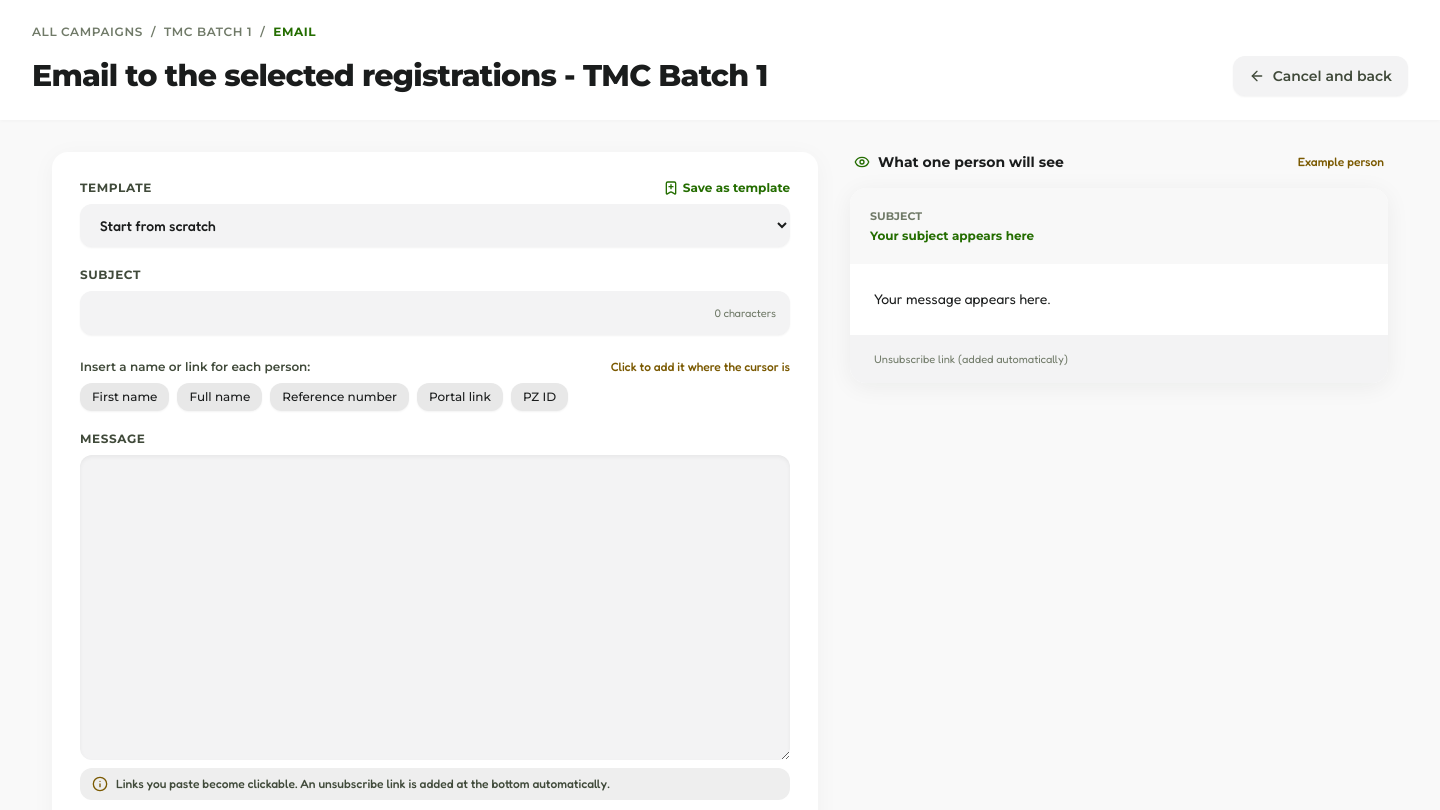
Test: sending › create gets expectedCount / expectedNotPaid from the preview and confirmNotPaid from the tick
Type "Hello" into the field labelled "Subject".
click(435, 313); type("Hello")  # box [80,291,790,335]
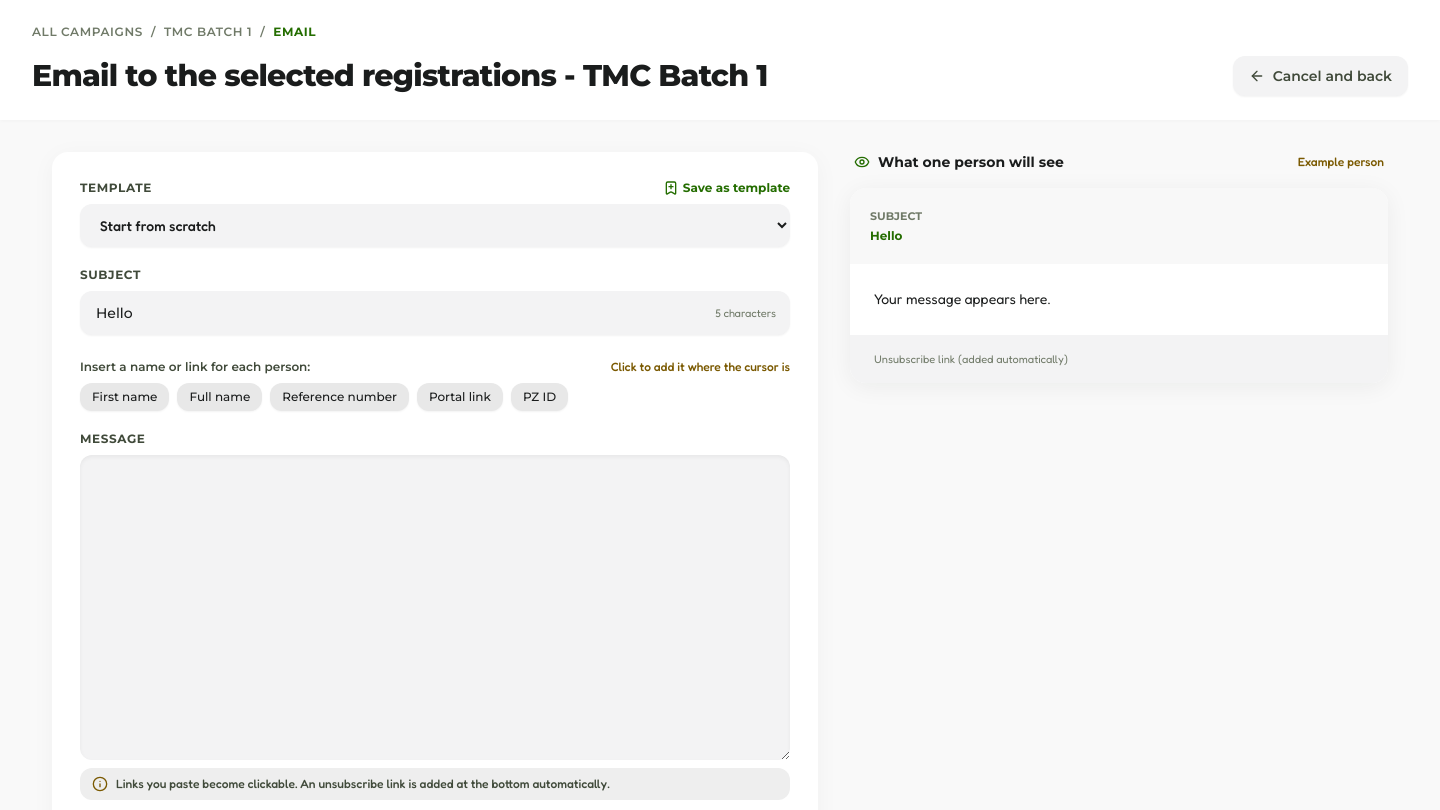
Type "Body text" into the text box labelled "Message".
click(435, 608); type("Body text")  # box [80,455,790,760]
(page scrolled)
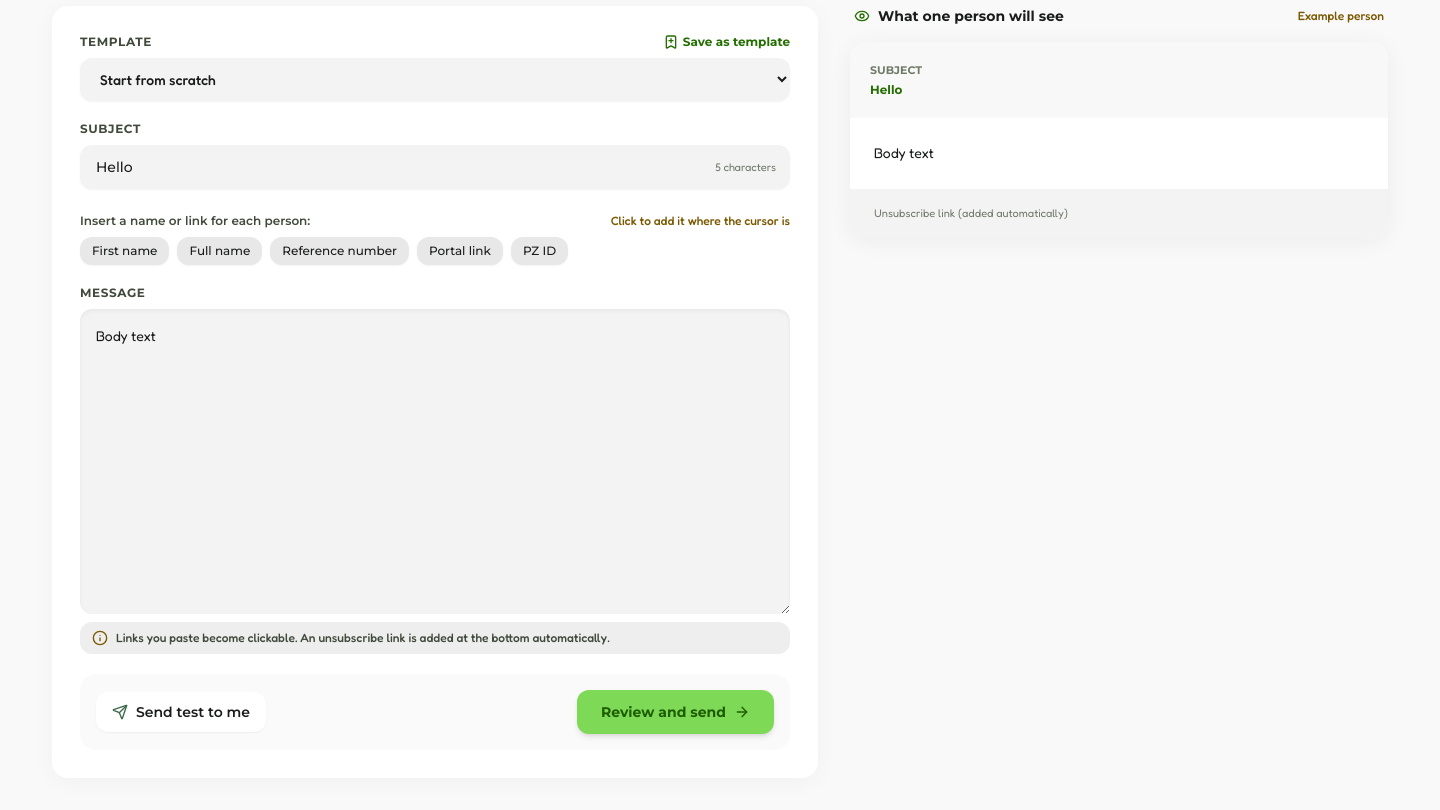
Click the button "Review and send".
click(675, 712)  # box [577,690,774,734]
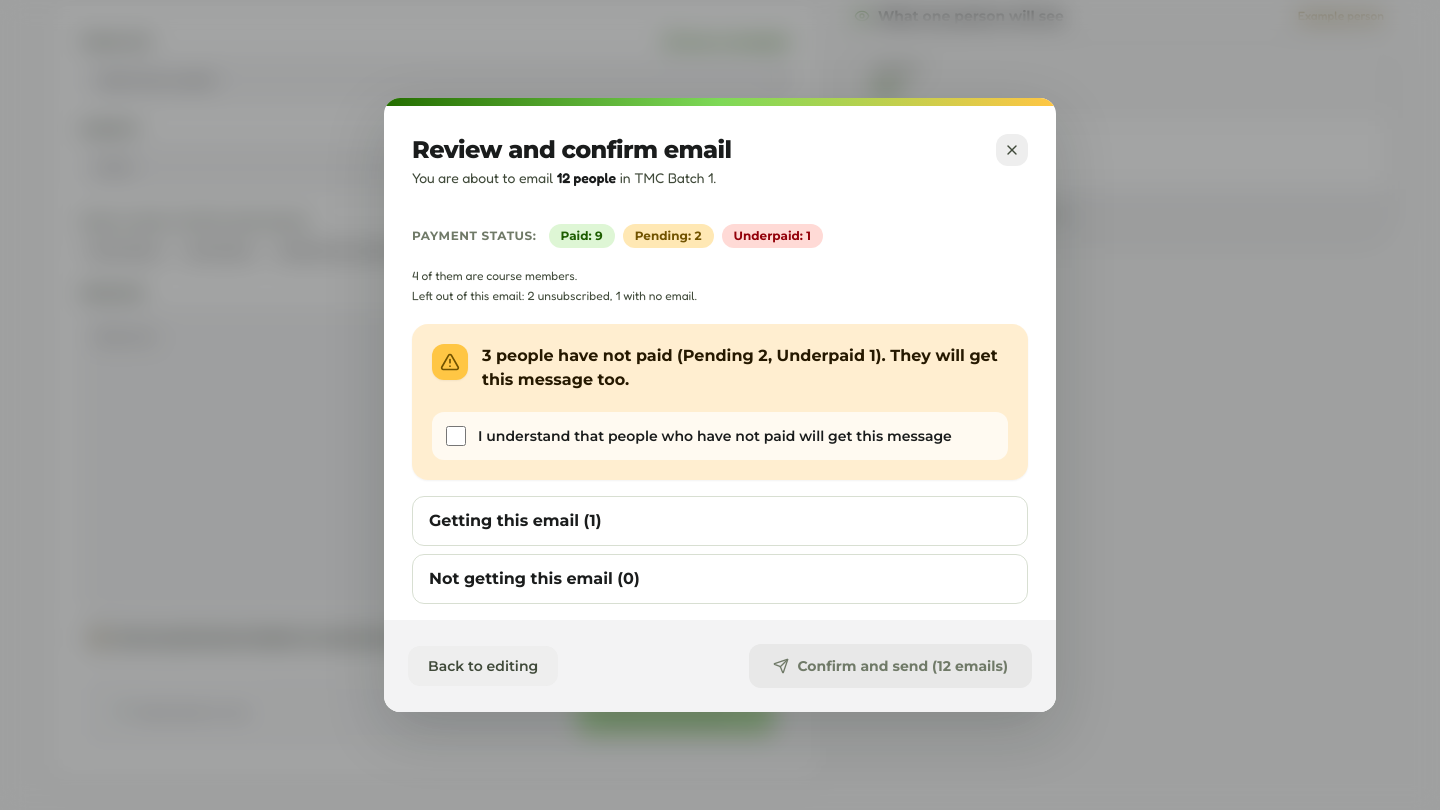
Now the text "You are about to email 12 people in TMC Batch 1." is shown, box [412,168,731,188]
Click the checkbox.
click(456, 436)  # box [446,426,466,446]
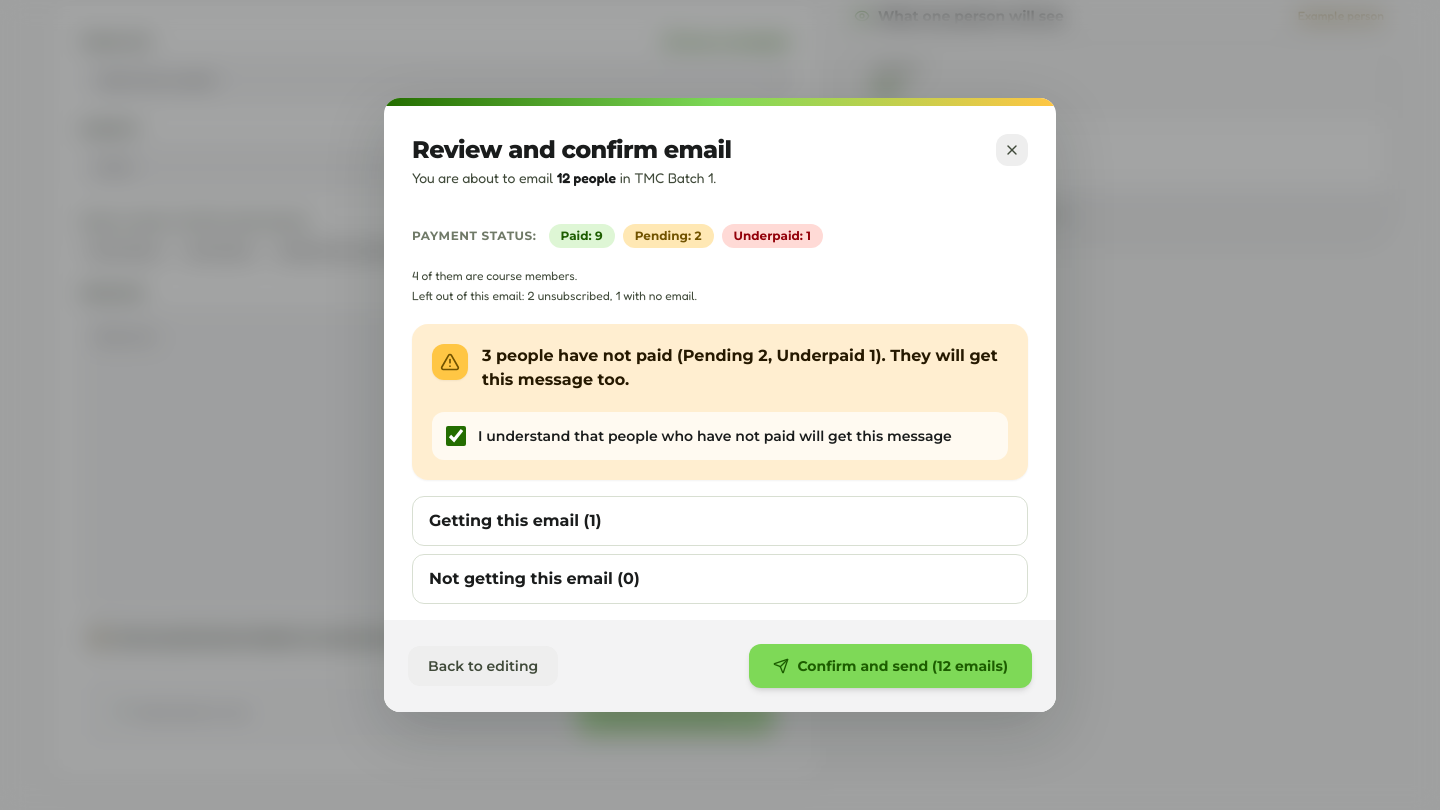
Click the button "Confirm and send (12 emails)".
click(891, 666)  # box [749,644,1032,688]
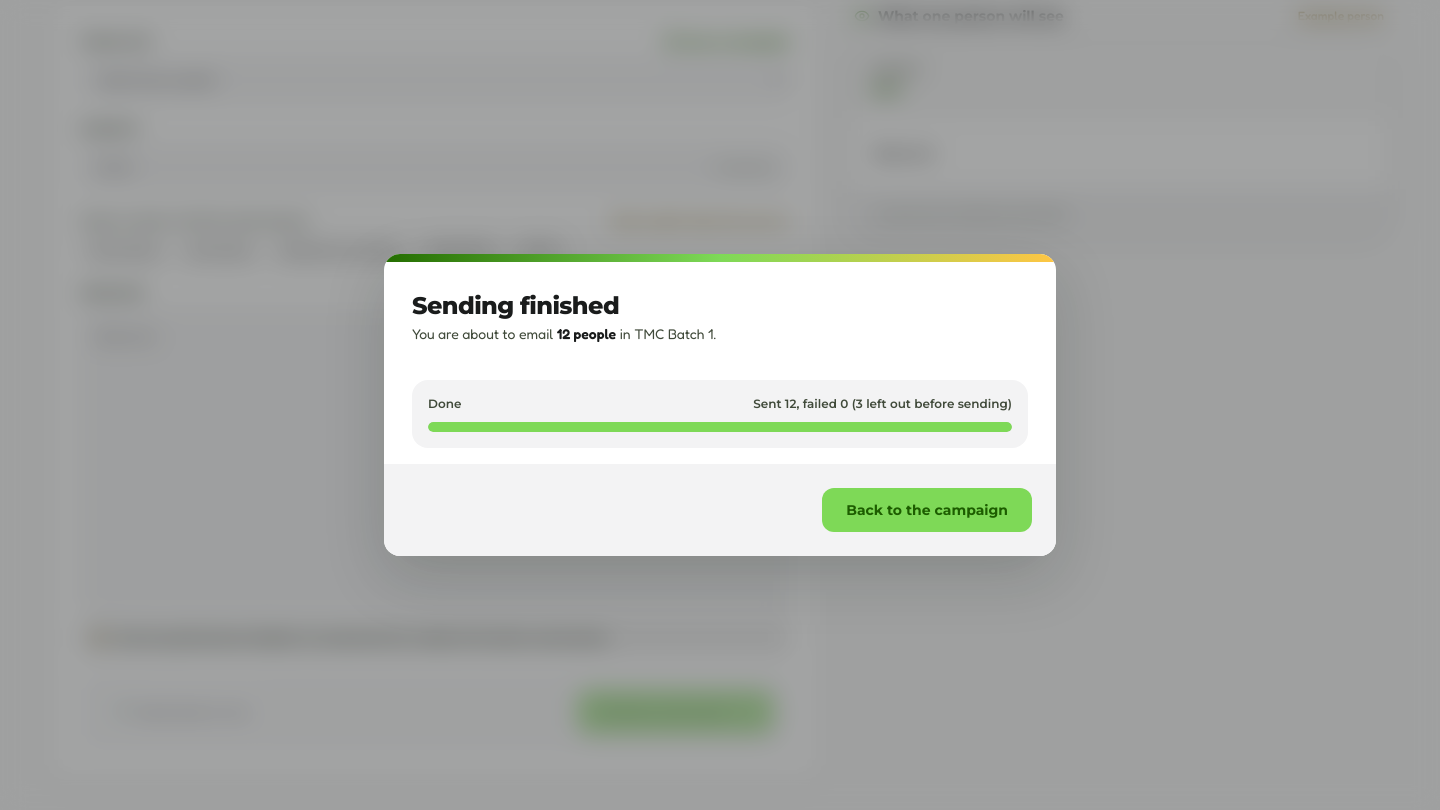
Now the text "Sent 12, failed 0 (3 left out before sending)" is shown, box [753,396,1012,412]
